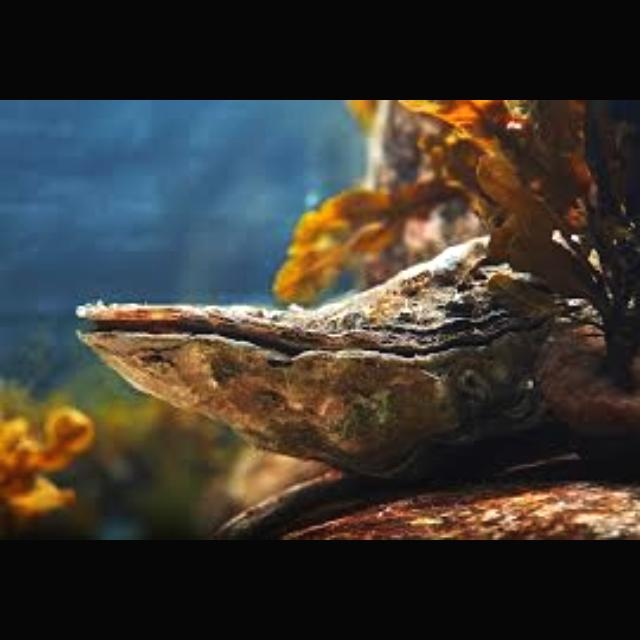Oyster-Open: (76, 236, 564, 478)
